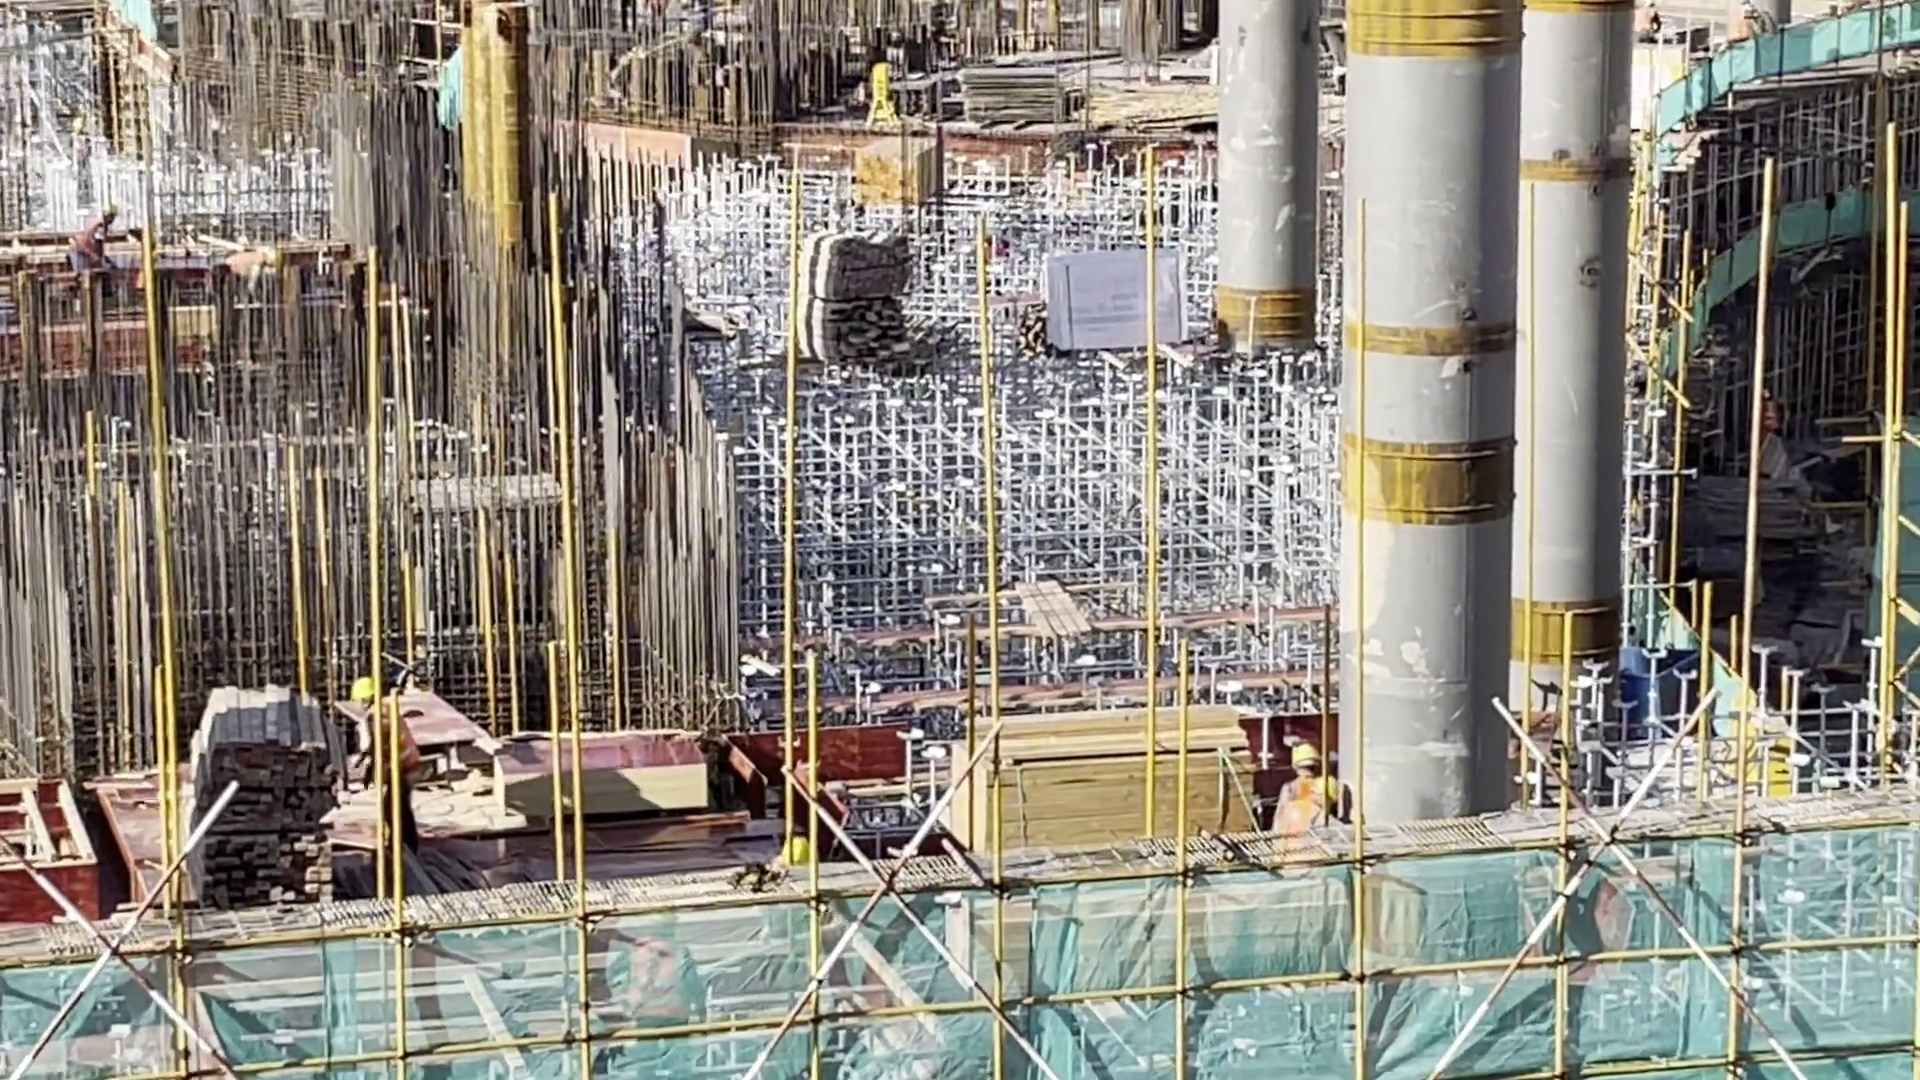helmet: (1285, 735, 1331, 783), (343, 672, 380, 701)
hopper: (1610, 639, 1705, 731)
person: (1258, 743, 1347, 850)
wood: (948, 705, 1266, 854), (178, 682, 346, 918), (796, 219, 923, 370), (852, 123, 942, 209)
